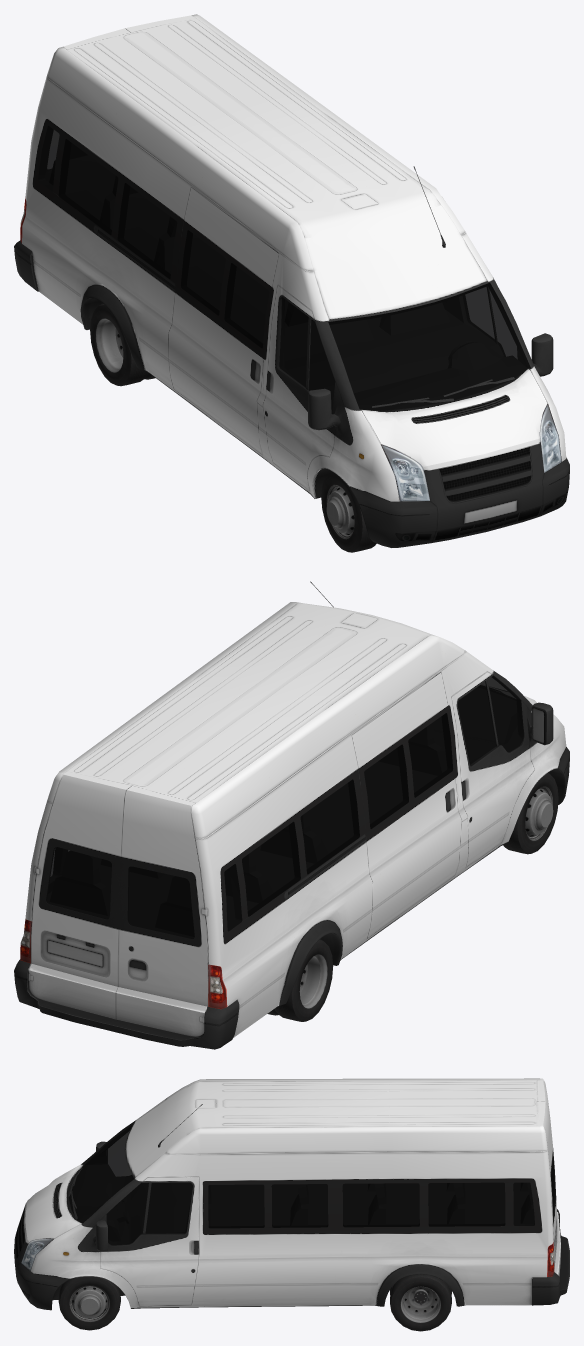
File: MiniBus.FBX
3 renders of one model, top to bottom at view 1: azimuth 30°, elevation 25°; view 2: azimuth 150°, elevation 25°; view 3: azimuth 270°, elevation 25°, orthographic. The views are drawn at different scales.
Parts seen in each view (by area): view 1: MiniBus_LOD0, Wheels_RR_LOD0, Wheels_FR_LOD0; view 2: MiniBus_LOD0, Wheels_RR_LOD0, Wheels_FR_LOD0; view 3: MiniBus_LOD0, Wheels_RL_LOD0, Wheels_FL_LOD0.
Part boxes in pixels (x1,y1,x2,y2): MiniBus_LOD0: (14,14,569,547); Wheels_RR_LOD0: (90,303,155,386); Wheels_FR_LOD0: (321,471,376,552); MiniBus_LOD0: (14,581,569,1049); Wheels_RR_LOD0: (267,939,333,1021); Wheels_FR_LOD0: (503,773,558,854); MiniBus_LOD0: (14,1078,569,1310); Wheels_RL_LOD0: (390,1274,451,1331); Wheels_FL_LOD0: (58,1276,120,1330).
Size of what is drawn, in the model's own units: 2.37 by 6.51 by 2.72.
